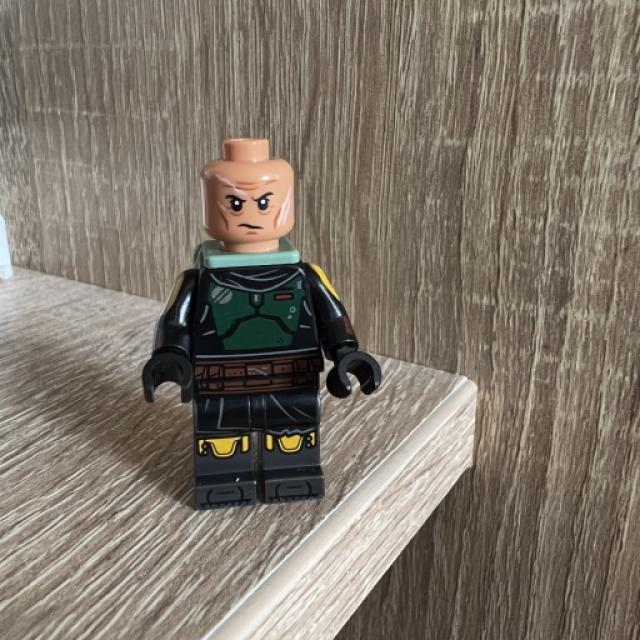Lego-Minifigures: (128, 128, 396, 553)
